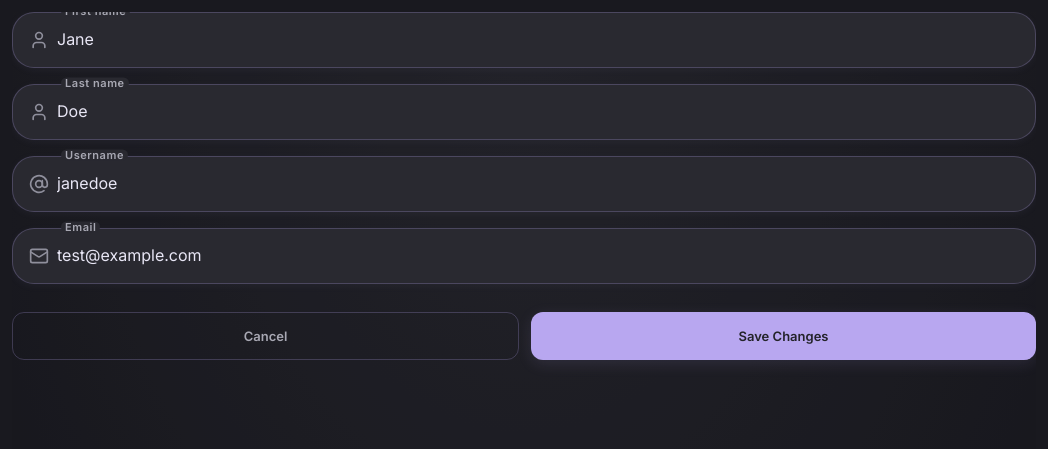
Test: UserProfileForm › routes any other server failure onto the root alert
Replace the text in the field labelled "Username" with "newname". click: (542, 184)
box: x1=49 y1=159 x2=1035 y2=209
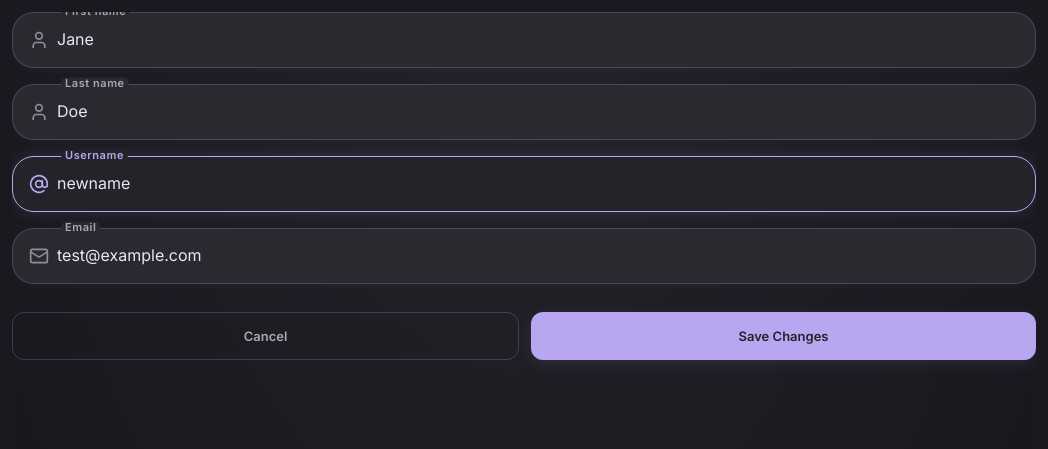
Click the button "Save Changes". click: (784, 336)
box: x1=531 y1=312 x2=1036 y2=360
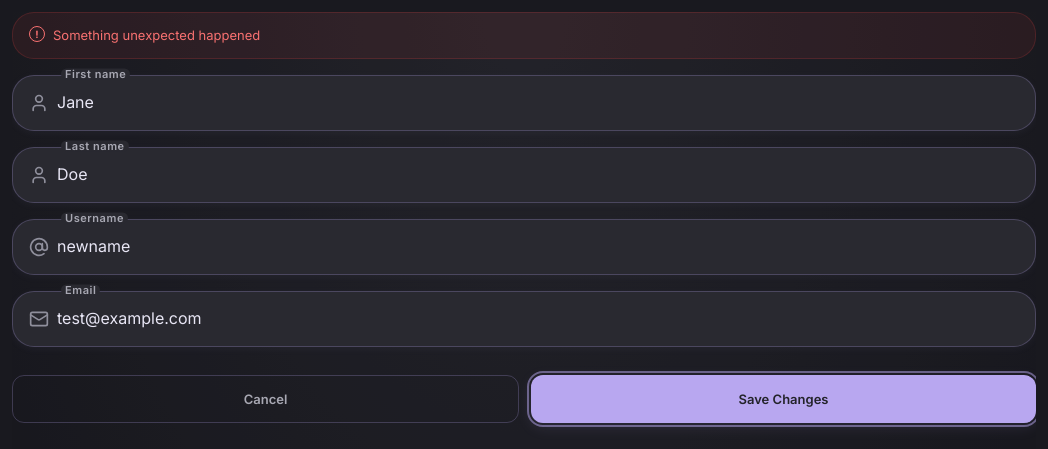
expect the message shows "Something unexpected happened": met, box x1=53 y1=27 x2=260 y2=43
